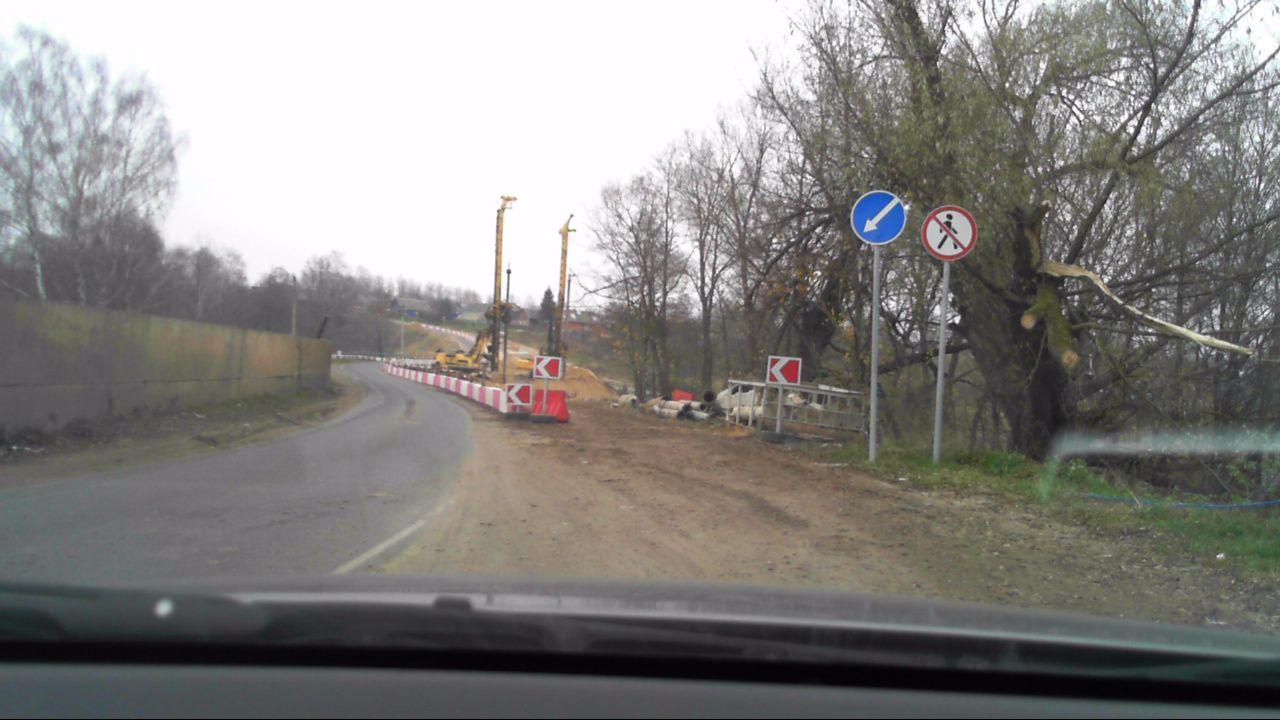1_34_2: (765, 356, 804, 388), (534, 353, 563, 377), (505, 385, 532, 407)
3_10: (922, 206, 976, 262)
4_2_2: (850, 186, 908, 244)
